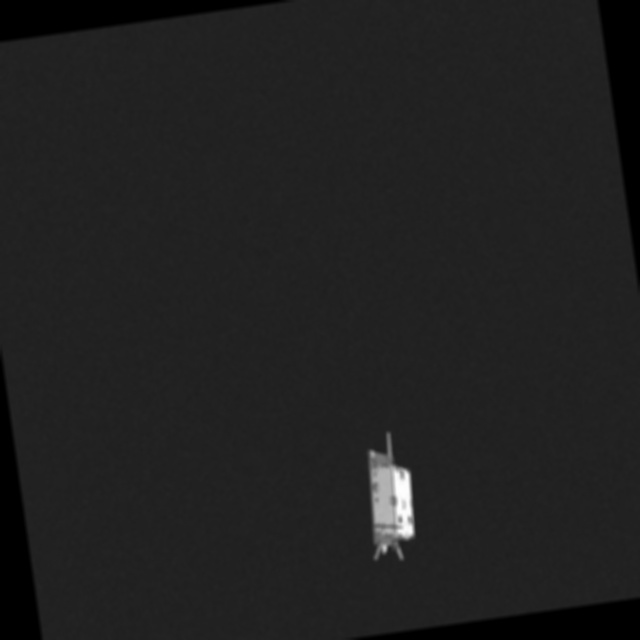medium_debris: (349, 417, 427, 571)
